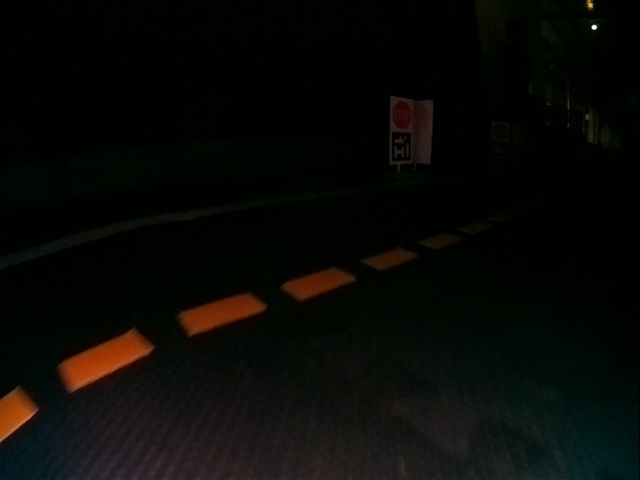QR code: (390, 131, 412, 162)
Stop sign: (391, 99, 412, 129)
